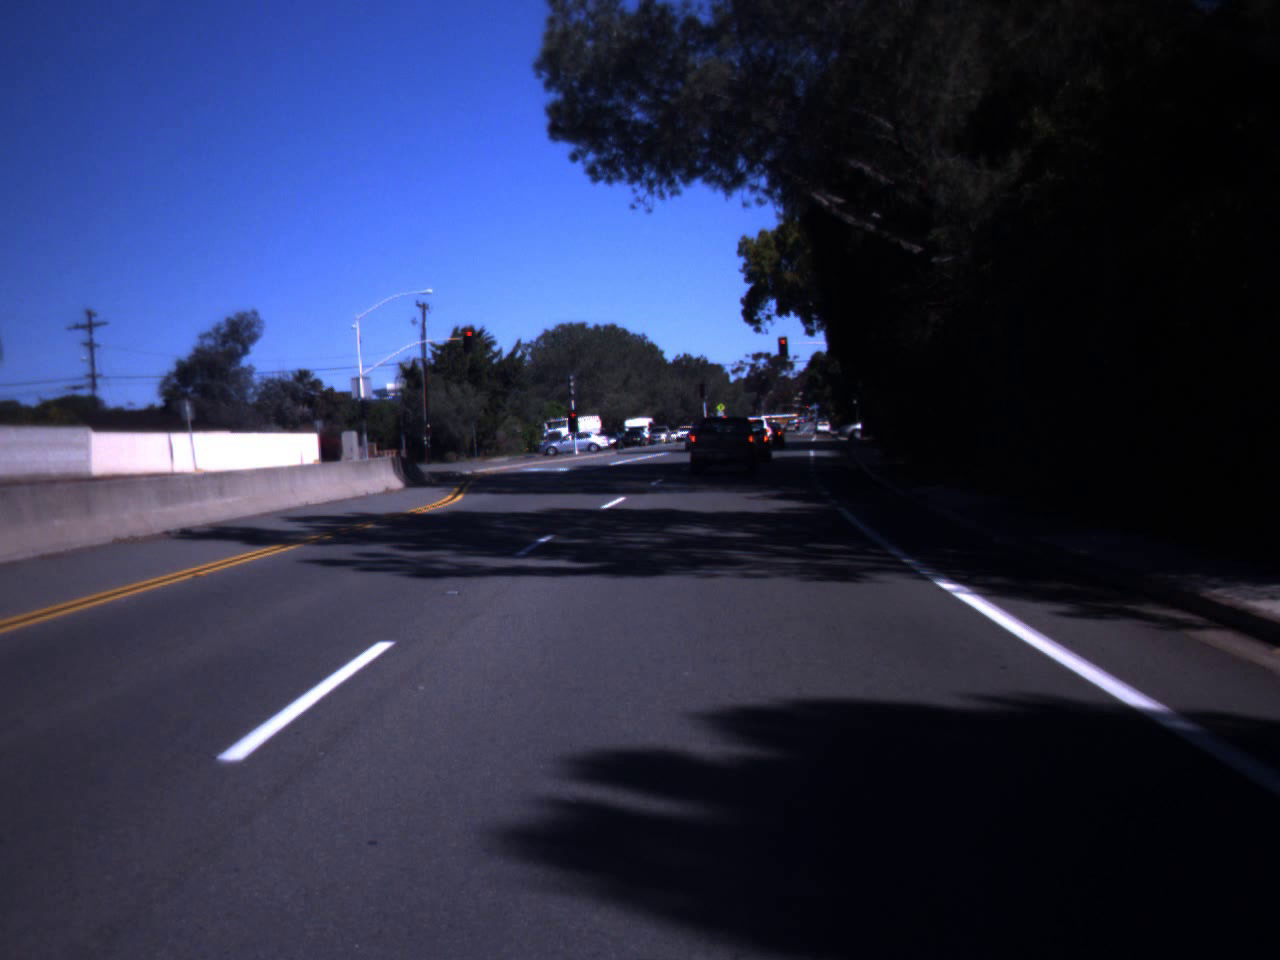stop: (464, 330, 476, 348)
